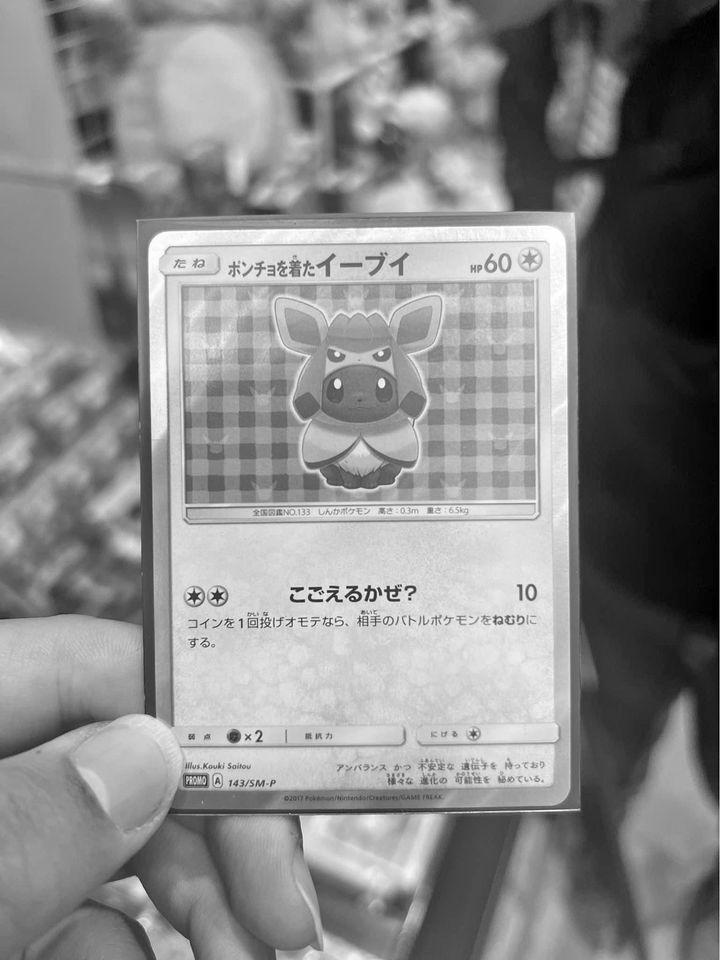card: (148, 224, 572, 810)
